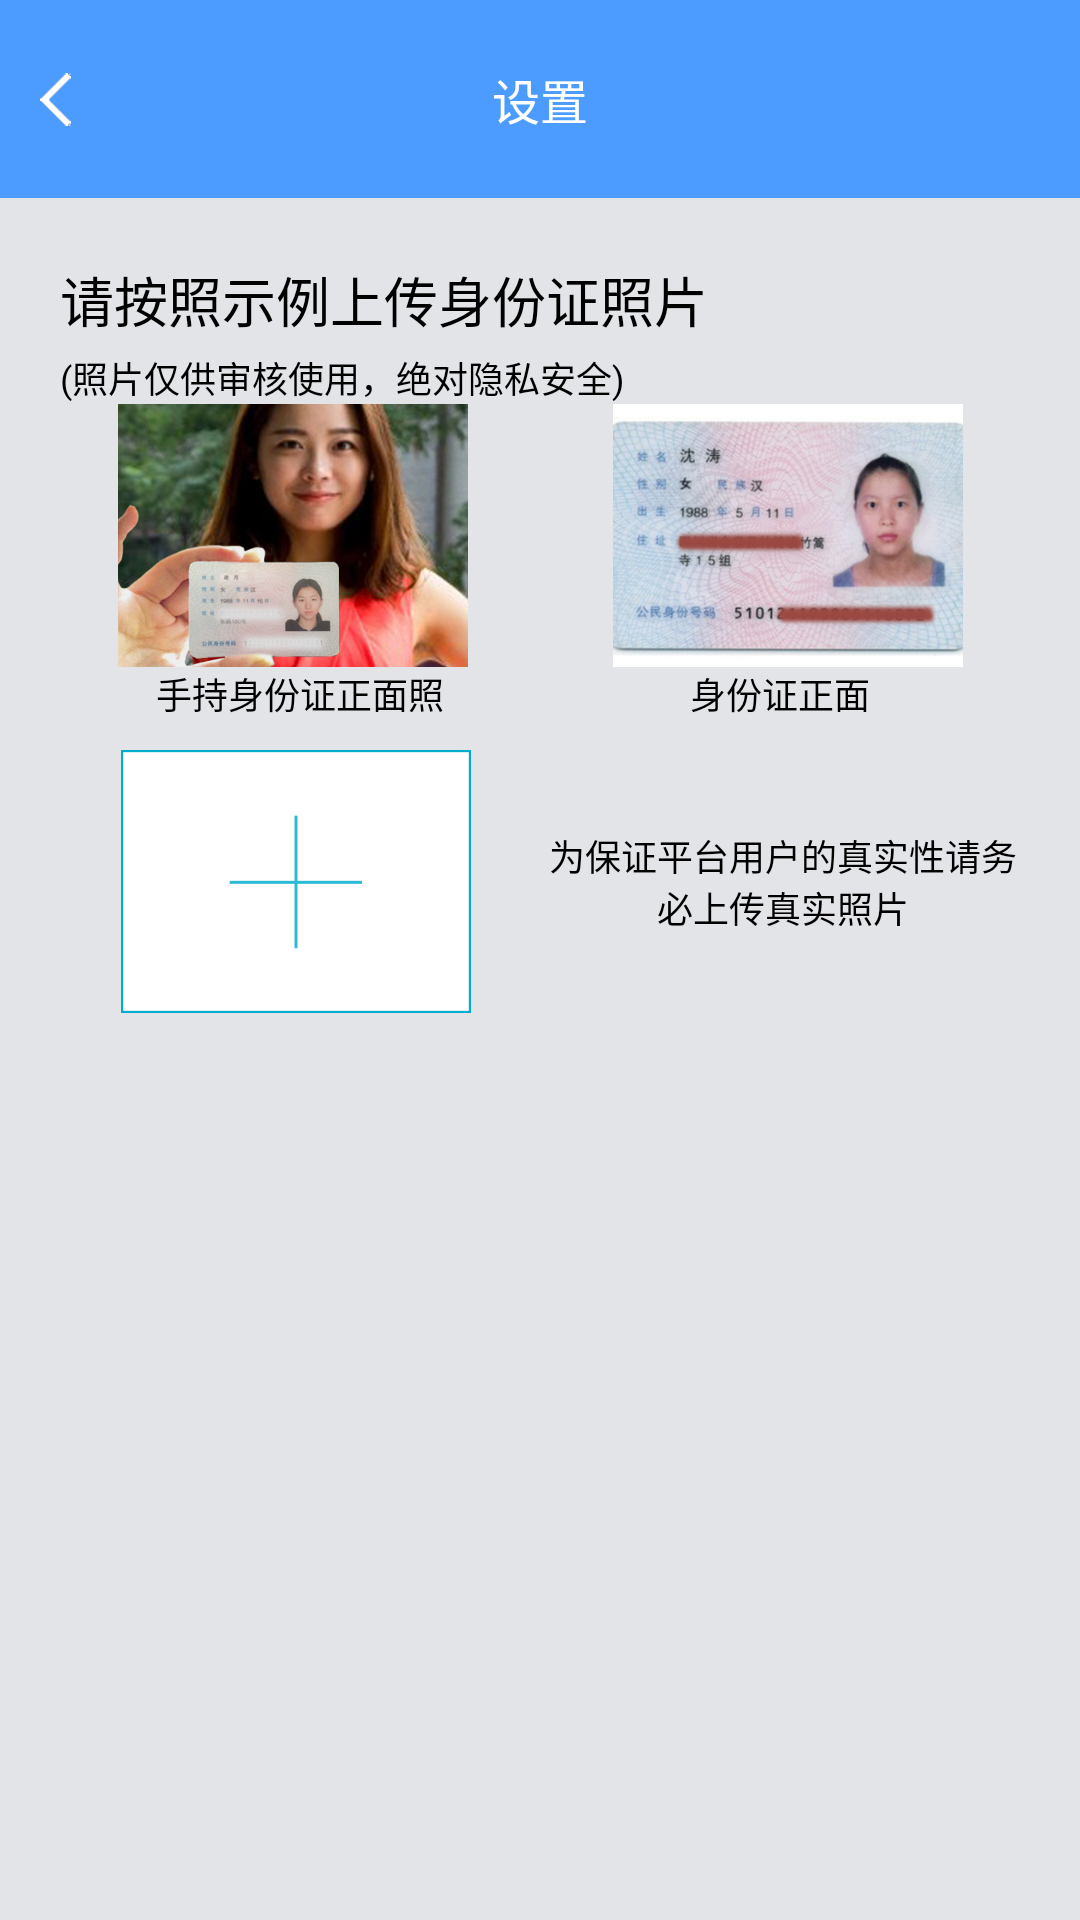

Named icons in this screenshot (1080w x 1920h) and their centers, [x,y]:
login return: [55,99]
tian jia photo: [296,881]
